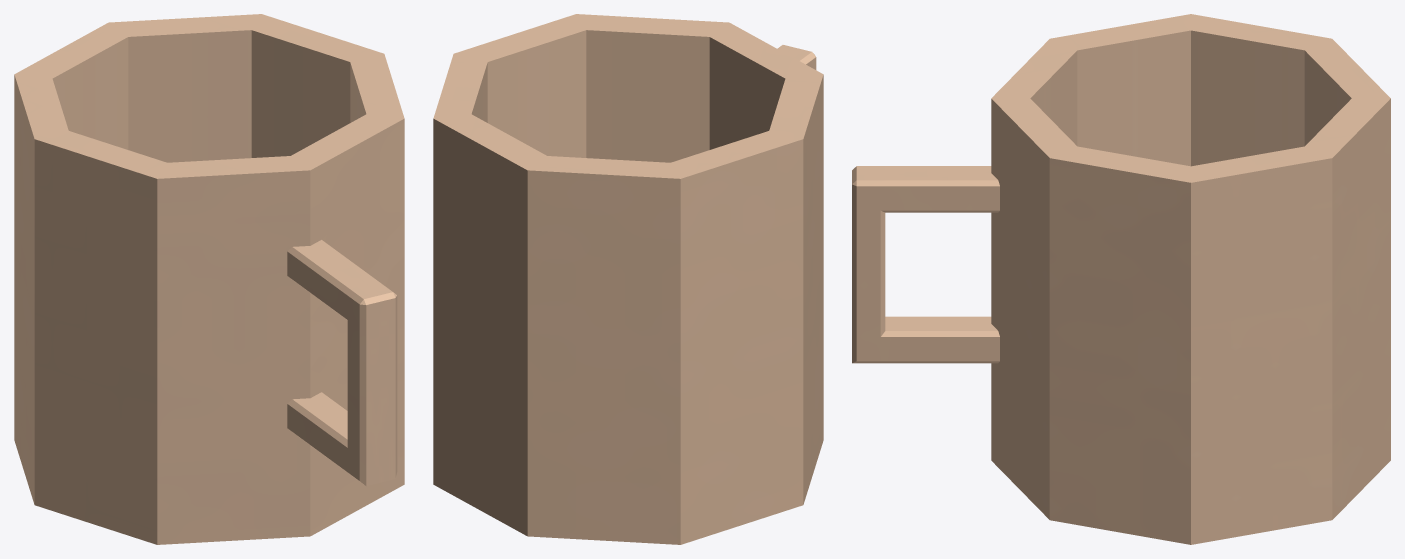
Rendered from Mug_03.fbx.
The picture shows the model from 3 angles, left to right: view 1: azimuth 30°, elevation 25°; view 2: azimuth 150°, elevation 25°; view 3: azimuth 270°, elevation 25°; orthographic projection.
Visible parts, largest first — view 1: Mug_03; view 2: Mug_03; view 3: Mug_03.
Part boxes in pixels (bbox=[...]): Mug_03: bbox=[14, 14, 404, 544]; Mug_03: bbox=[433, 14, 823, 544]; Mug_03: bbox=[852, 14, 1390, 544].
Bounding box in the file's own units: 0.1401 × 0.1401 × 0.1889.
